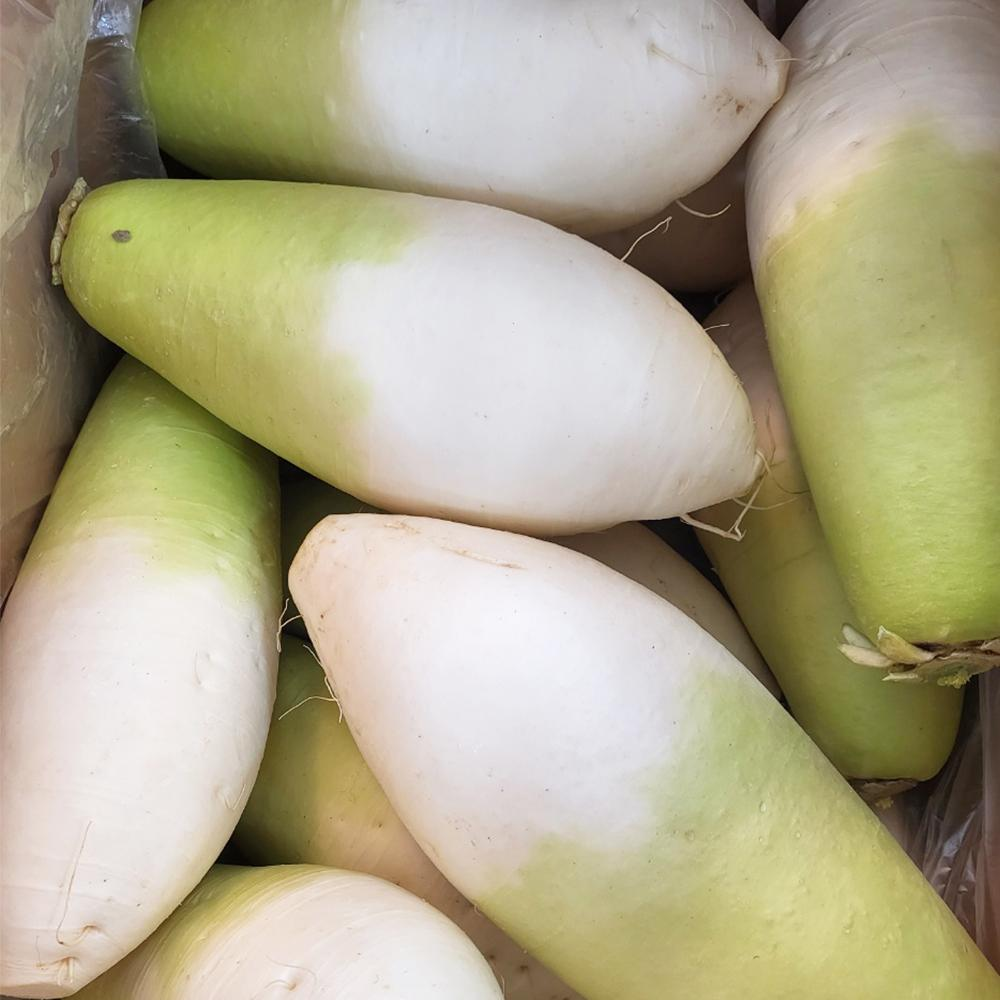radish: (156, 294, 1000, 805), (834, 112, 1000, 1000)
